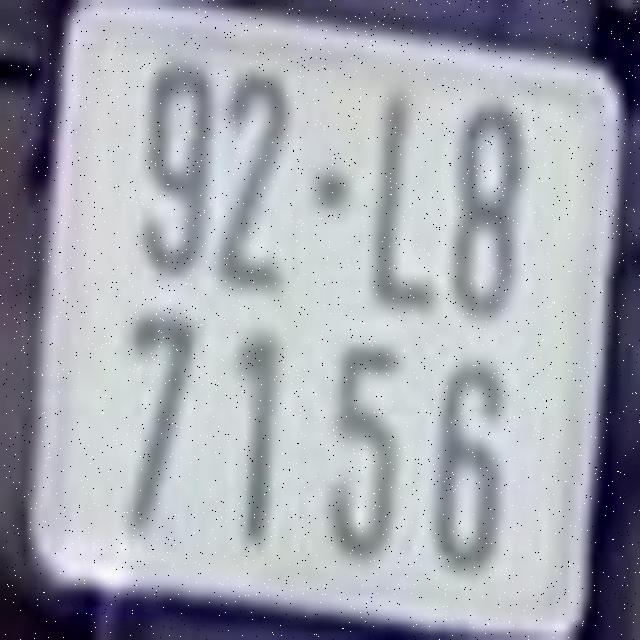1: (232, 331, 280, 544)
2: (222, 68, 287, 289)
5: (332, 342, 402, 559)
6: (436, 358, 504, 572)
7: (122, 309, 198, 534)
8: (452, 102, 522, 319)
9: (141, 61, 211, 276)
L: (371, 88, 440, 312)
